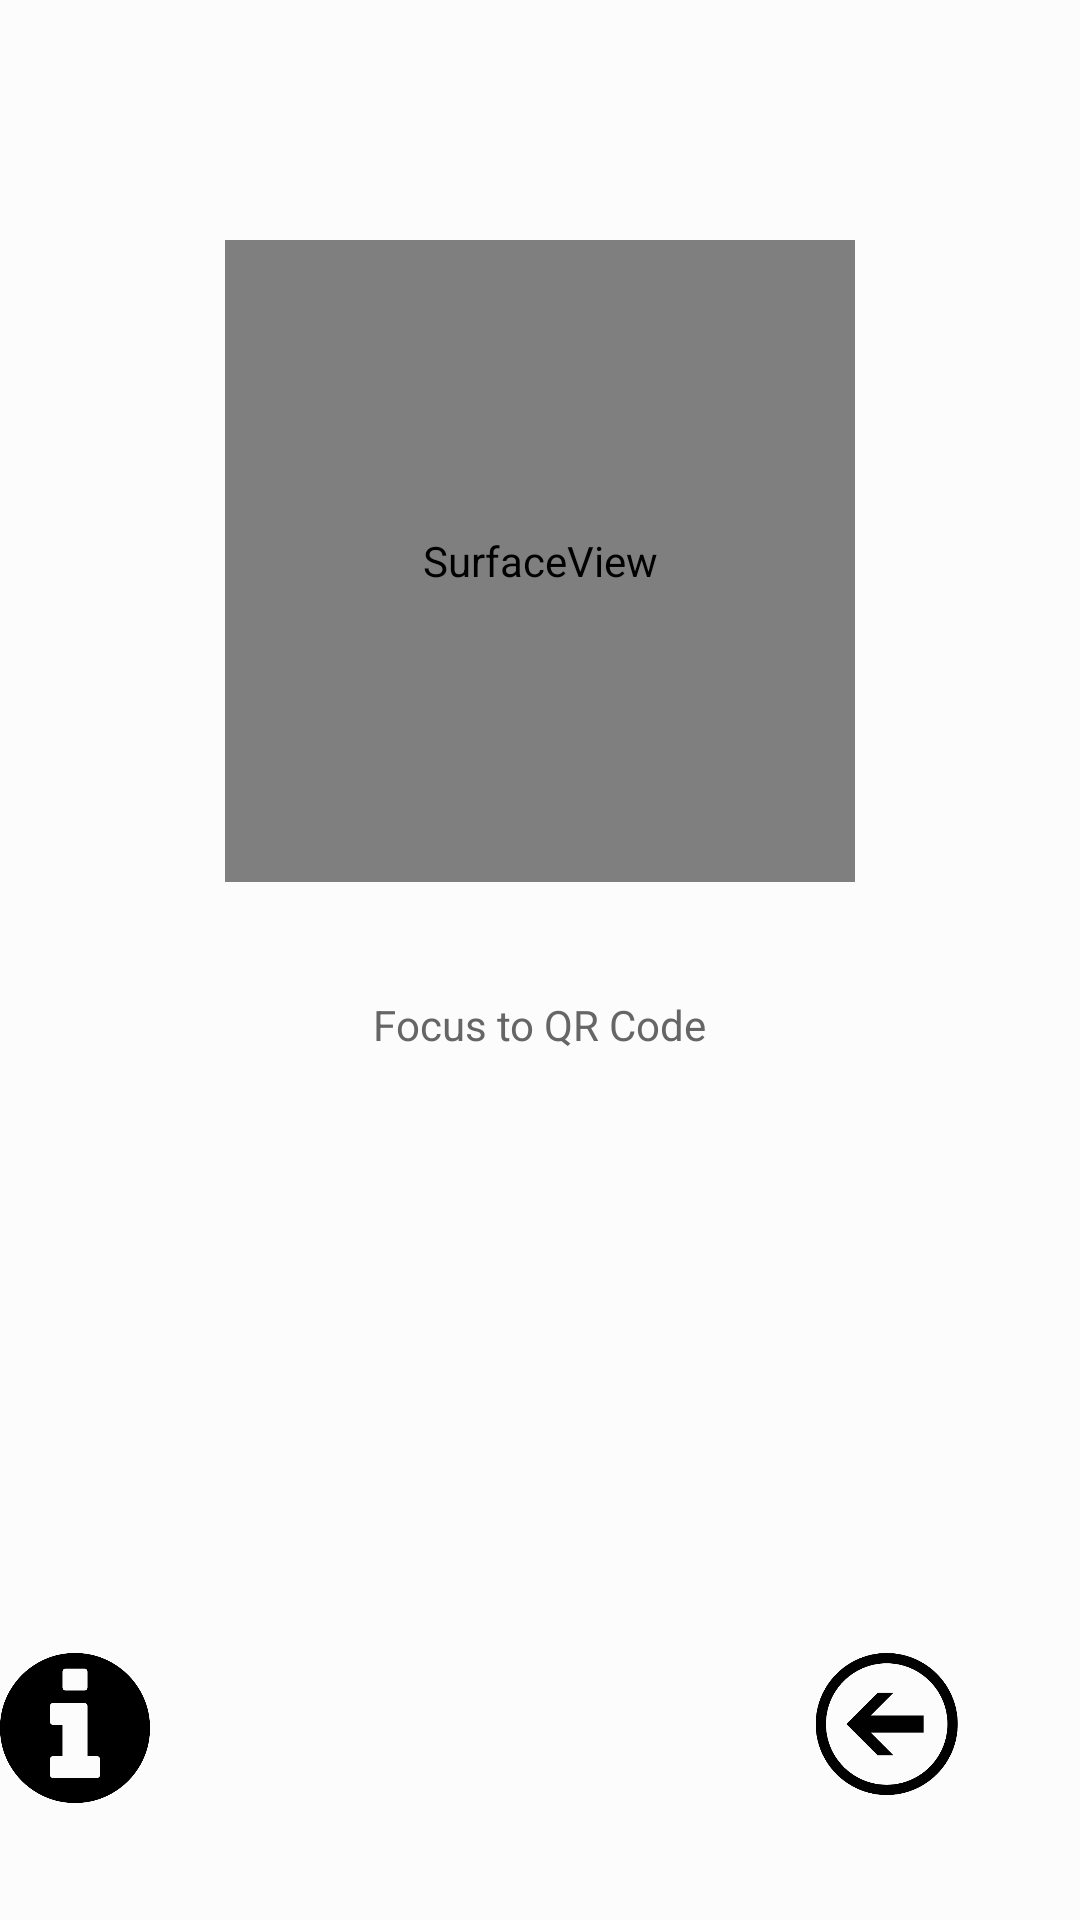

Screen size 1080px×1920px. Icon name, then its box in pixels as {"left": x1, "top": y1, "right": x2, "bottom": y2}:
back: {"left": 816, "top": 1653, "right": 958, "bottom": 1795}
fainfo: {"left": 0, "top": 1653, "right": 150, "bottom": 1803}
